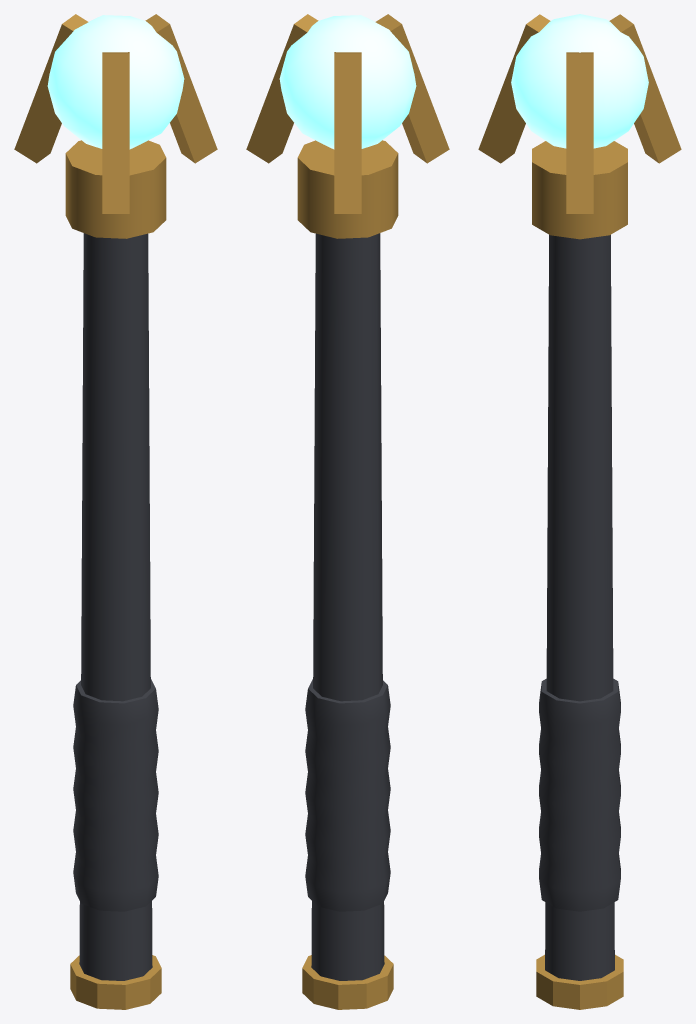
File: rod.glb
The picture shows the model from 3 angles, left to right: view 1: azimuth 30°, elevation 25°; view 2: azimuth 150°, elevation 25°; view 3: azimuth 270°, elevation 25°; orthographic projection.
Parts seen in each view (by area): view 1: Rod_Darksteel, Rod_Brass, Rod_Accent; view 2: Rod_Darksteel, Rod_Brass, Rod_Accent; view 3: Rod_Darksteel, Rod_Brass, Rod_Accent.
Part boxes in pixels (x1,y1,x2,y2): Rod_Darksteel: (73,233,158,980); Rod_Brass: (14,14,217,1009); Rod_Accent: (47,15,184,149); Rod_Darksteel: (305,233,390,980); Rod_Brass: (246,14,449,1009); Rod_Accent: (279,15,416,149); Rod_Darksteel: (539,235,620,980); Rod_Brass: (478,14,681,1009); Rod_Accent: (511,14,648,148).
Size of the model in its own units: 0.0776 by 0.466 by 0.0885.
